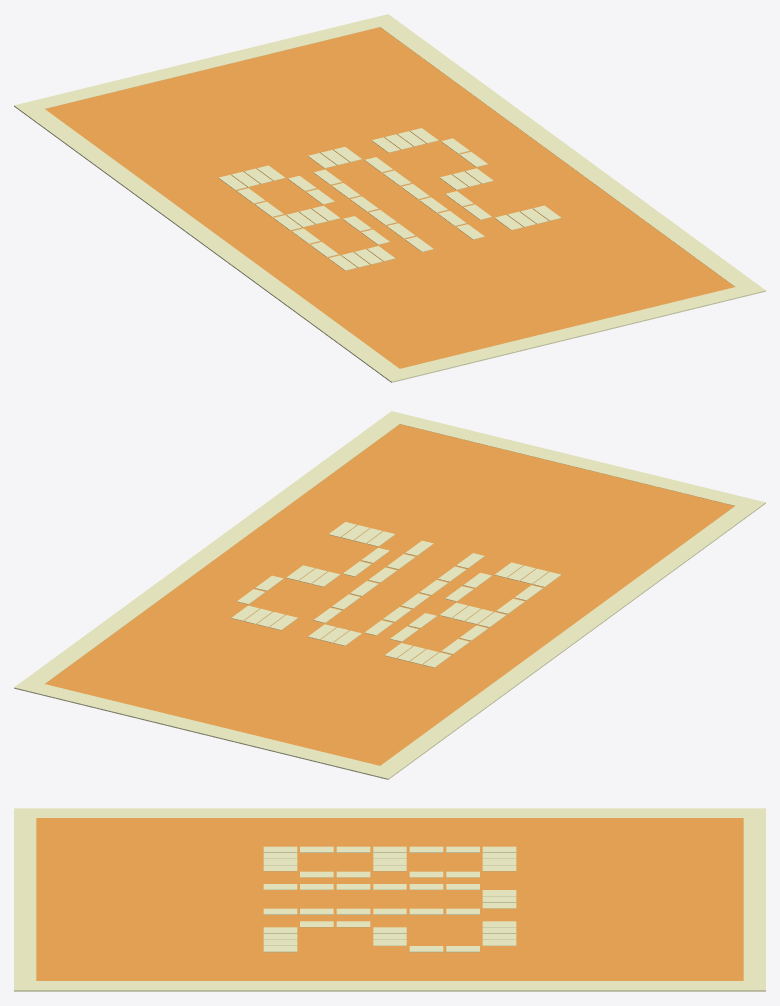
The model's file is marking_transit_lane_panel_red.glb.
The picture shows the model from 3 angles, top to bottom: view 1: azimuth 30°, elevation 25°; view 2: azimuth 150°, elevation 25°; view 3: azimuth 270°, elevation 25°; orthographic projection.
Visible parts, largest first — view 1: transit_lane_panel_fill, transit_lane_panel_left, transit_lane_panel_right, transit_lane_panel_bottom, transit_lane_panel_top; view 2: transit_lane_panel_fill, transit_lane_panel_left, transit_lane_panel_right, transit_lane_panel_top, transit_lane_panel_bottom; view 3: transit_lane_panel_fill, transit_lane_panel_right, transit_lane_panel_left, transit_lane_panel_top, transit_lane_panel_bottom.
Part boxes in pixels (<box>): transit_lane_panel_fill: <box>45,27,734,368</box>; transit_lane_panel_left: <box>25,109,399,374</box>; transit_lane_panel_right: <box>380,22,754,286</box>; transit_lane_panel_bottom: <box>380,282,765,382</box>; transit_lane_panel_top: <box>14,14,398,114</box>; transit_lane_panel_fill: <box>45,424,734,765</box>; transit_lane_panel_left: <box>380,506,754,771</box>; transit_lane_panel_right: <box>25,419,399,683</box>; transit_lane_panel_top: <box>14,679,399,779</box>; transit_lane_panel_bottom: <box>381,411,765,511</box>; transit_lane_panel_fill: <box>36,818,743,980</box>; transit_lane_panel_right: <box>36,981,743,991</box>; transit_lane_panel_left: <box>36,808,743,817</box>; transit_lane_panel_top: <box>743,808,765,991</box>; transit_lane_panel_bottom: <box>14,808,36,991</box>.
Size of the model in its own units: 1.74 by 0.006 by 3.04.
